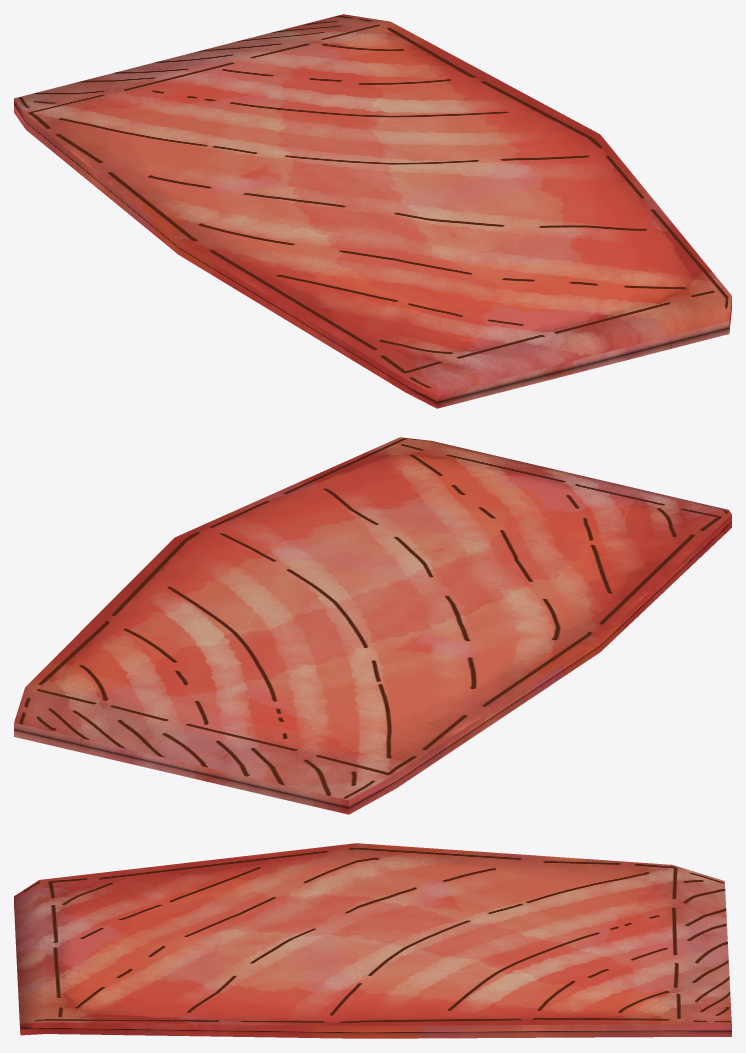
Rendered from tuna thin cut.fbx.
3 views of the same model, one above another, from view 1: azimuth 30°, elevation 25°; view 2: azimuth 150°, elevation 25°; view 3: azimuth 270°, elevation 25° (orthographic). The views are drawn at different scales.
Parts seen in each view (by area): view 1: tuna_thin_cut; view 2: tuna_thin_cut; view 3: tuna_thin_cut.
Part boxes in pixels (x1,y1,x2,y2): tuna_thin_cut: (14,14,731,408); tuna_thin_cut: (14,437,731,814); tuna_thin_cut: (14,843,731,1038).
Size of the model in its own units: 7.5 by 0.7062 by 12.43.
